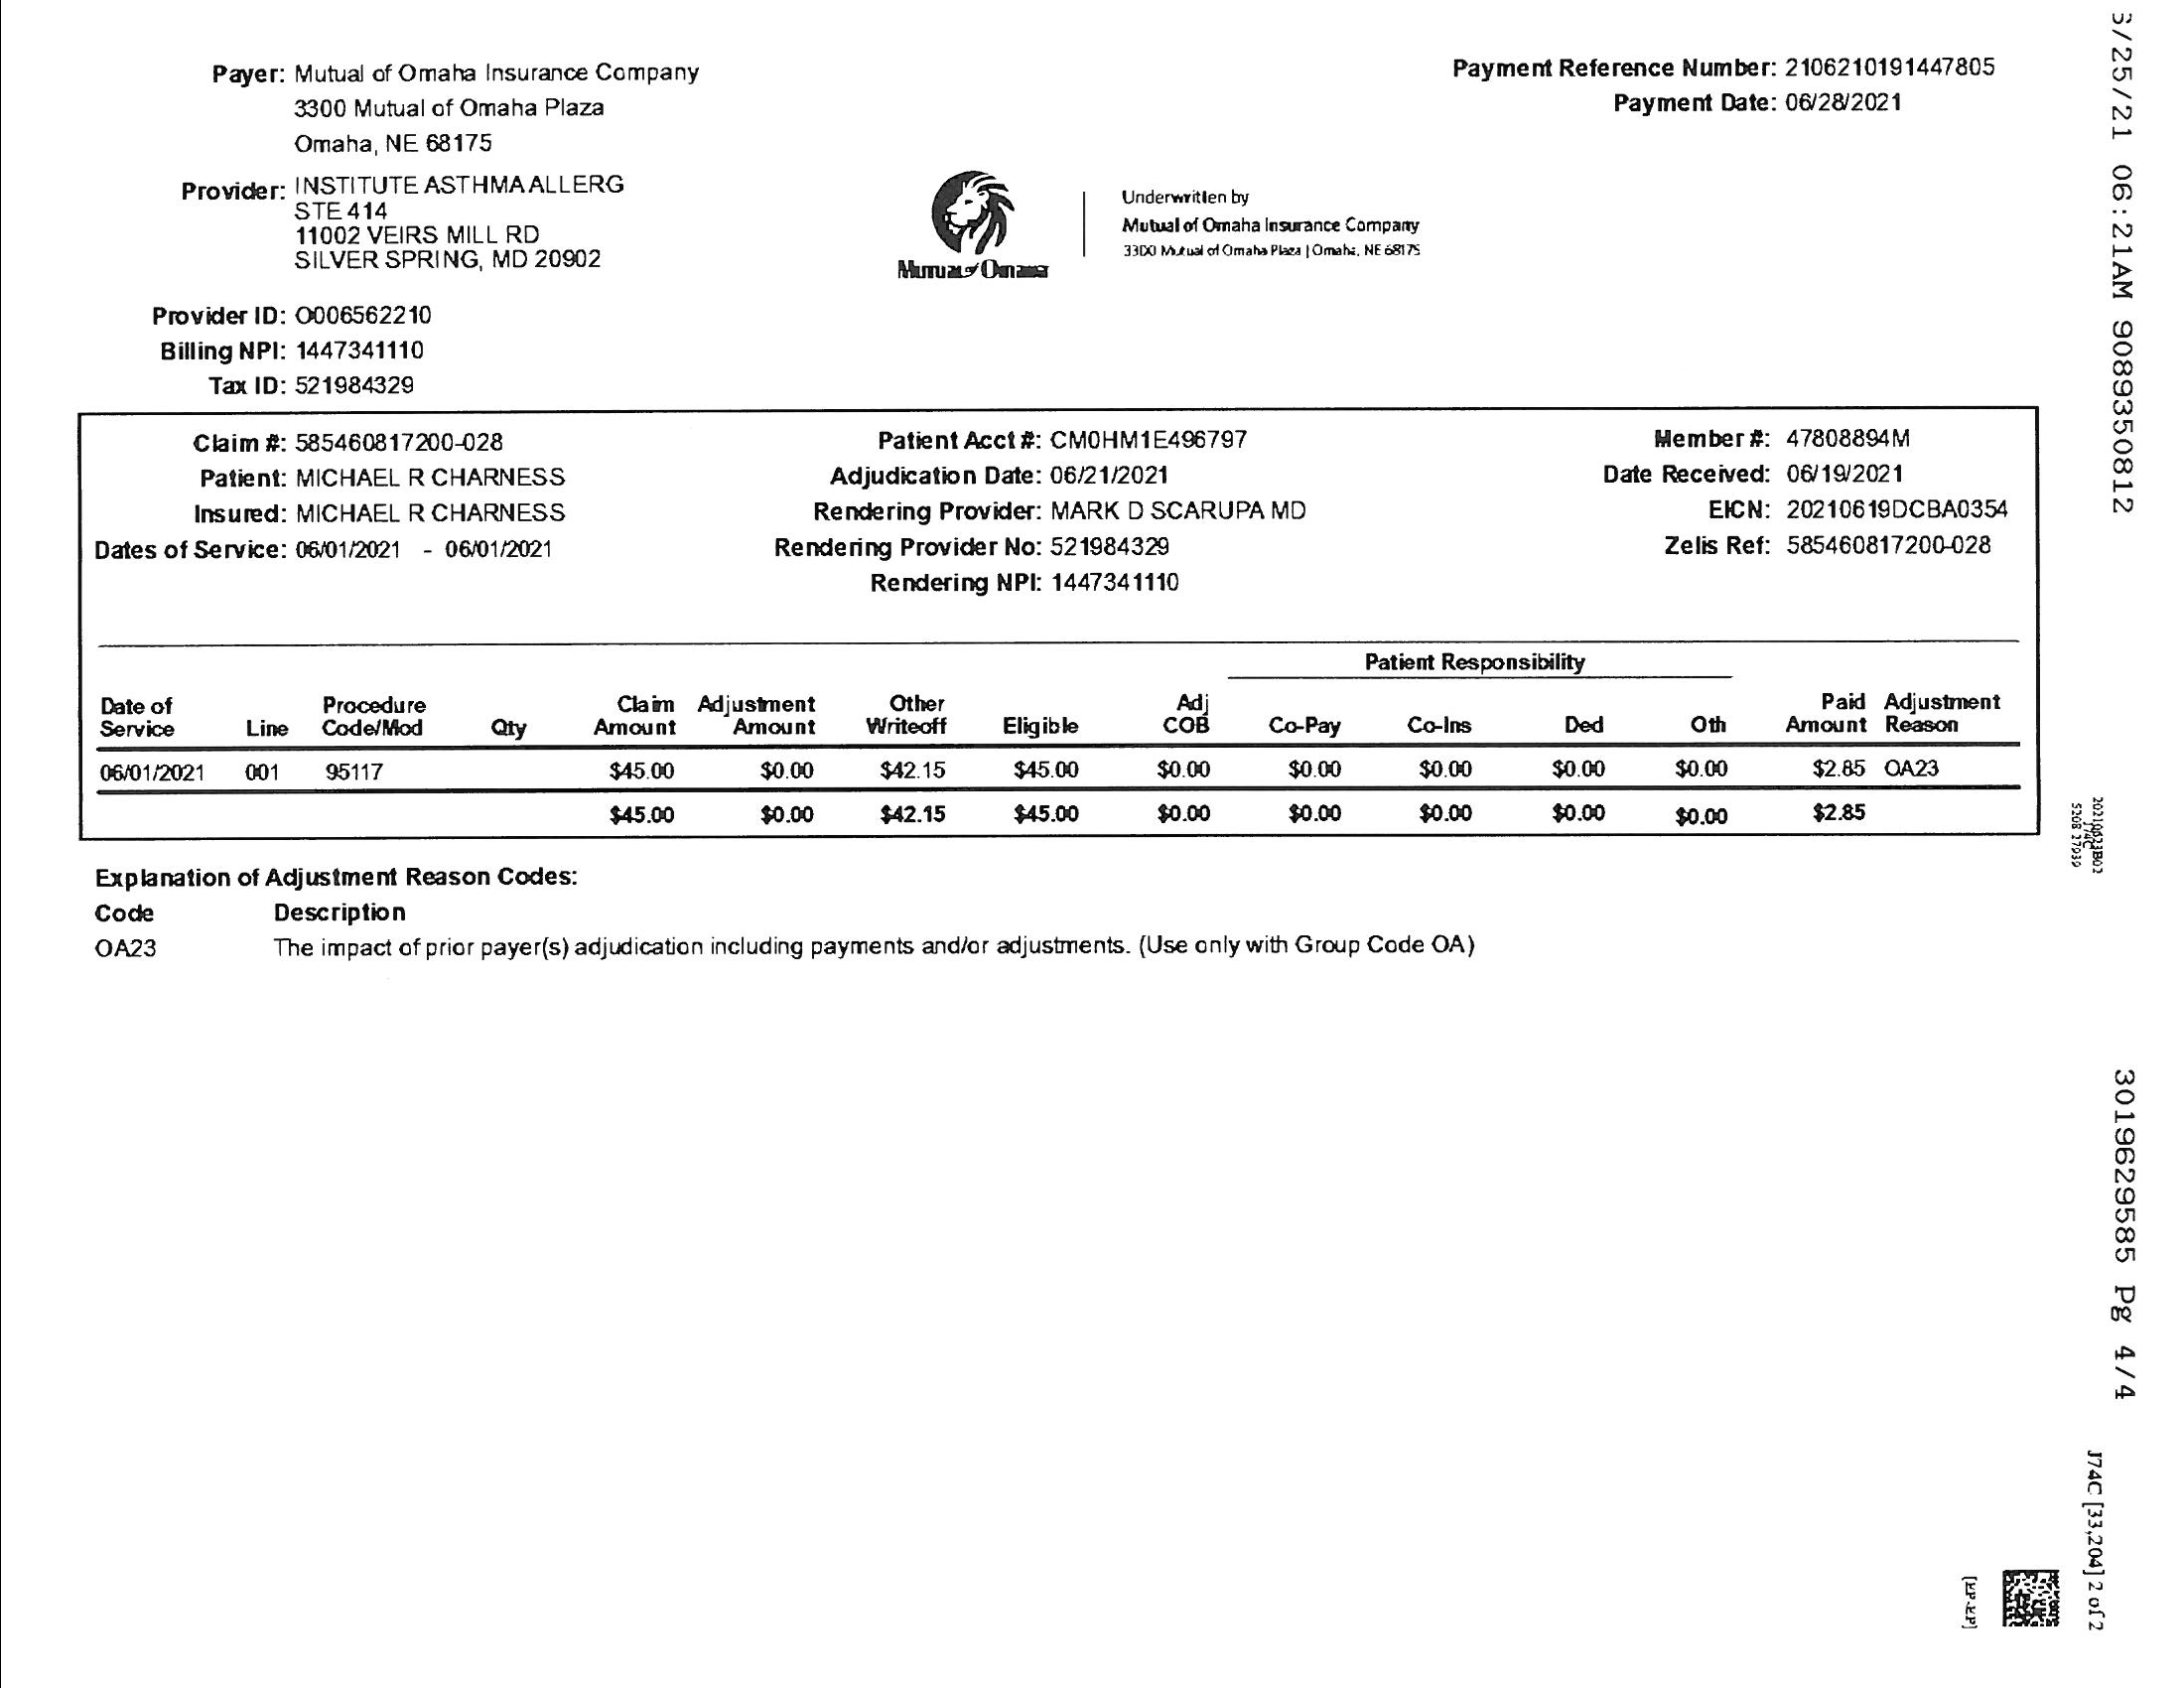data: (769, 426, 1328, 610), (83, 433, 576, 585), (1587, 422, 2023, 594), (1432, 44, 2026, 144), (193, 44, 723, 152), (177, 170, 647, 291), (151, 298, 450, 404)
table: (101, 622, 2028, 823)
